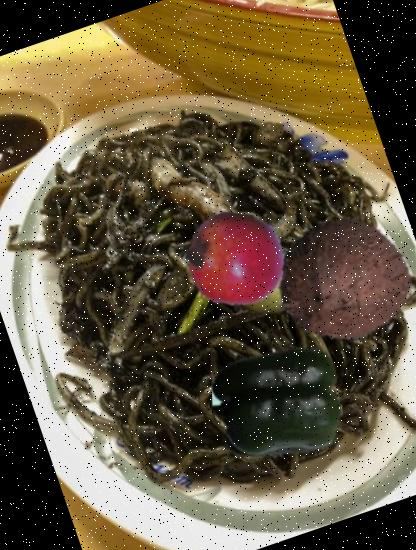Cocos: (252, 187, 416, 369)
Pear: (222, 246, 308, 332)
Pepper: (194, 318, 361, 486)
Pomegranate: (172, 194, 300, 322)
